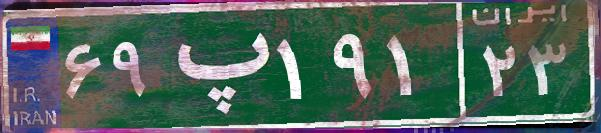1: (385, 28, 445, 110), (273, 28, 330, 110)
2: (475, 38, 525, 113)
3: (525, 38, 570, 115)
6: (57, 26, 110, 107)
9: (330, 28, 385, 110), (110, 28, 158, 105)
پ: (158, 15, 273, 115)
